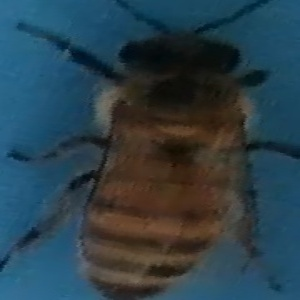bee: (22, 1, 292, 300)
